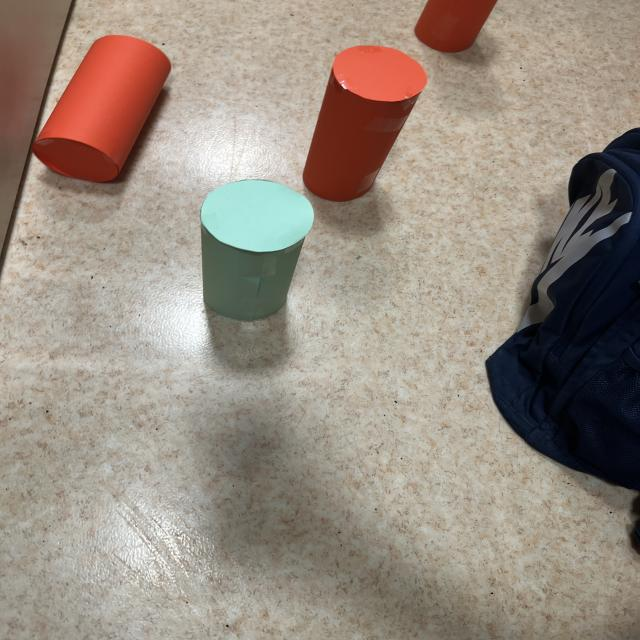meta: (200, 180, 314, 321)
przeszkoda: (33, 35, 170, 182), (303, 46, 426, 201)
